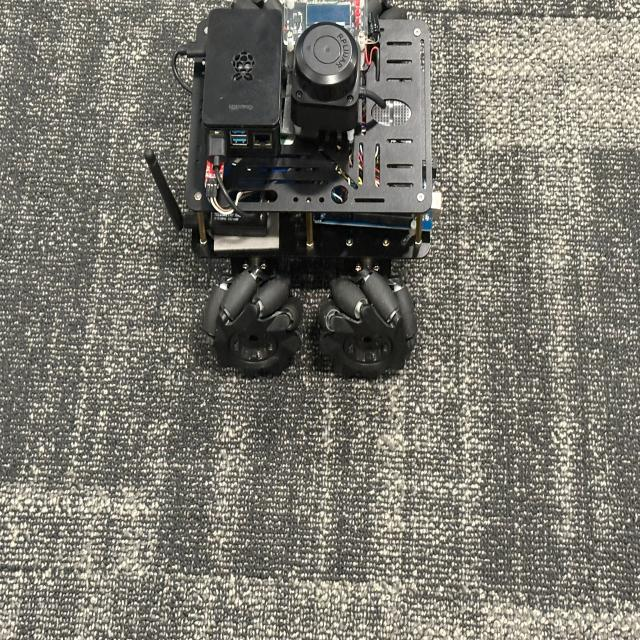ArduinoCar3: (145, 1, 447, 386)
